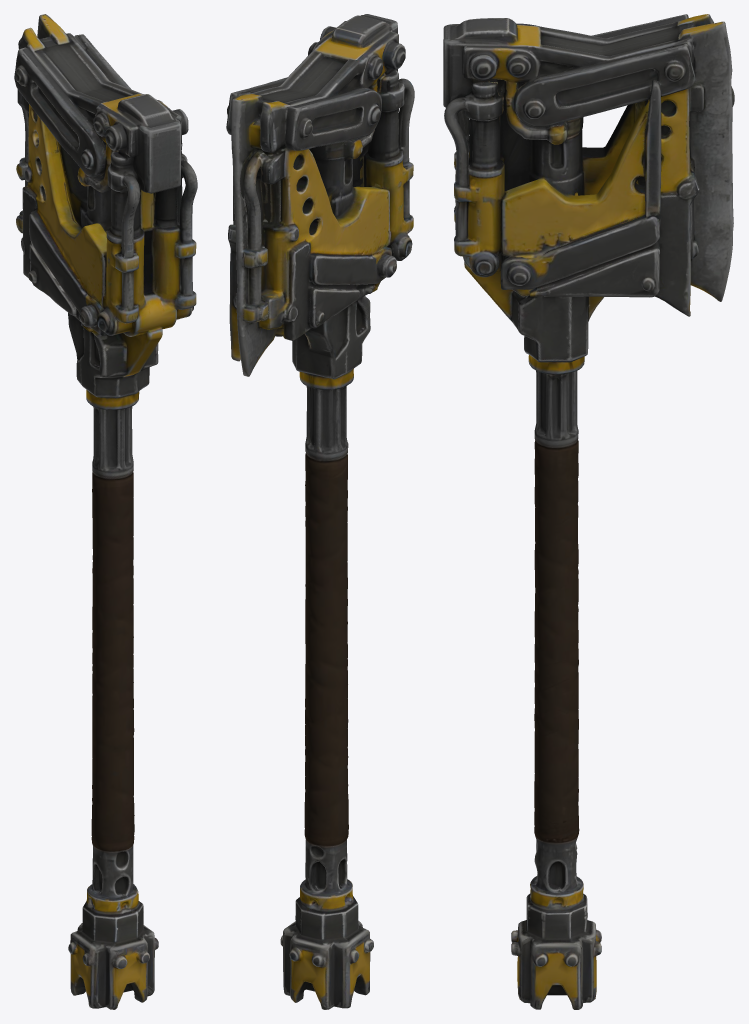
3 views of the same model, side by side, from view 1: azimuth 30°, elevation 25°; view 2: azimuth 150°, elevation 25°; view 3: azimuth 270°, elevation 25° (orthographic). The views are drawn at different scales.
Visible parts, largest first — view 1: tripo_node_29a5016d-4dc0-4eab-a133-6ba9c3eb34fb; view 2: tripo_node_29a5016d-4dc0-4eab-a133-6ba9c3eb34fb; view 3: tripo_node_29a5016d-4dc0-4eab-a133-6ba9c3eb34fb.
Part boxes in pixels (left/top/right/bottom): tripo_node_29a5016d-4dc0-4eab-a133-6ba9c3eb34fb: left=14, top=14, right=197, bottom=1009; tripo_node_29a5016d-4dc0-4eab-a133-6ba9c3eb34fb: left=226, top=14, right=414, bottom=1009; tripo_node_29a5016d-4dc0-4eab-a133-6ba9c3eb34fb: left=443, top=14, right=734, bottom=1009.
Size of the model in its own units: 0.112 by 1 by 0.2704.
Materials: 1 (1 with a texture image).
